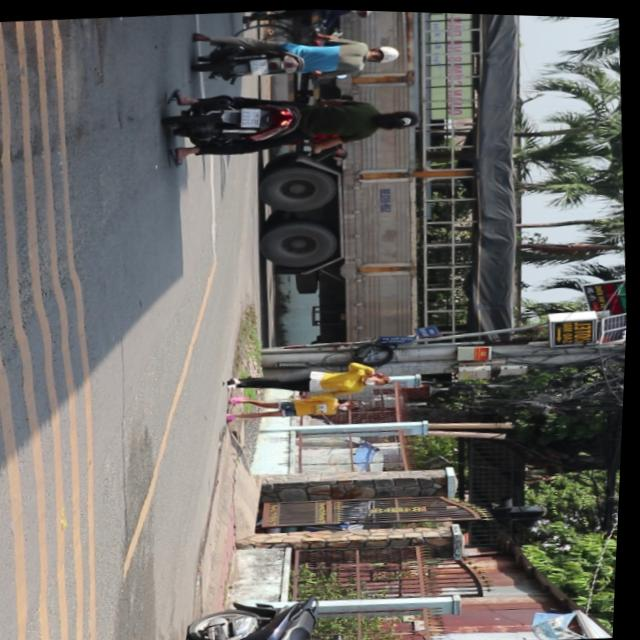licenseplate: (162, 76, 421, 167)
motorcyclist: (377, 105, 418, 131)
nohelmet: (241, 106, 262, 126)
